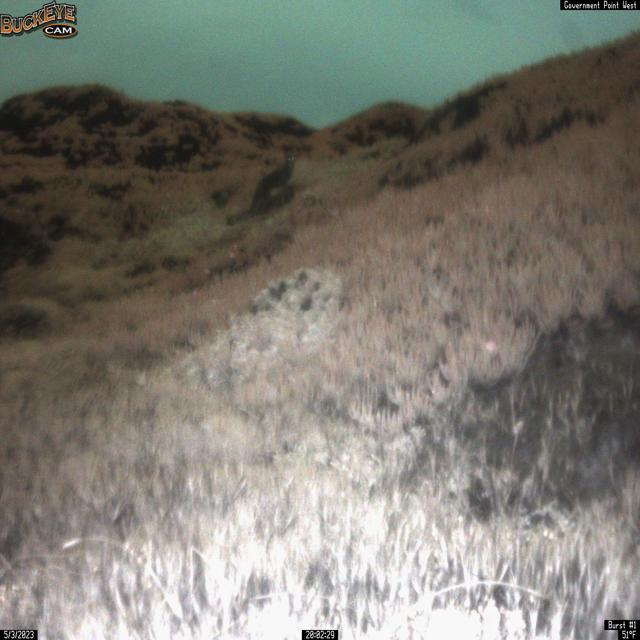coyote: (233, 136, 310, 216)
